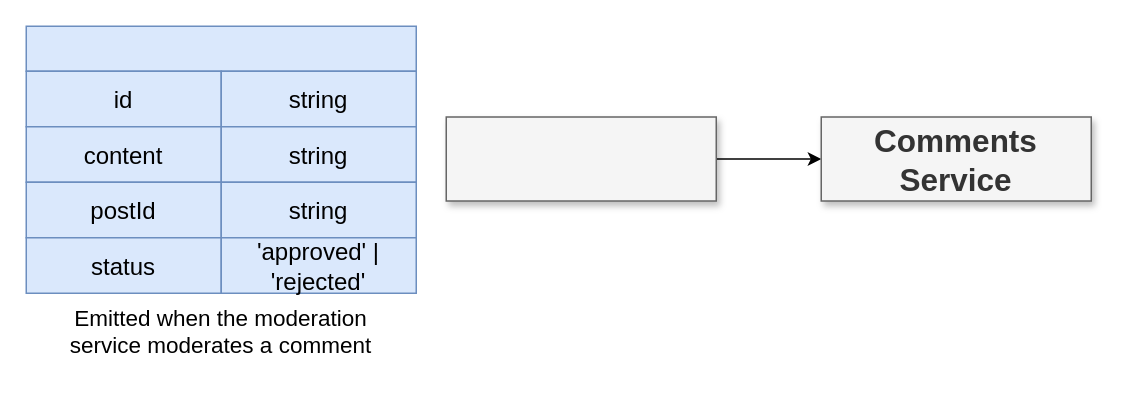
This 1127x395 diagram has some shape labels left out. Each missing label, with the centre of its shape:
CommentModerated: the point at 220,48
Moderation Service: the point at 582,161
